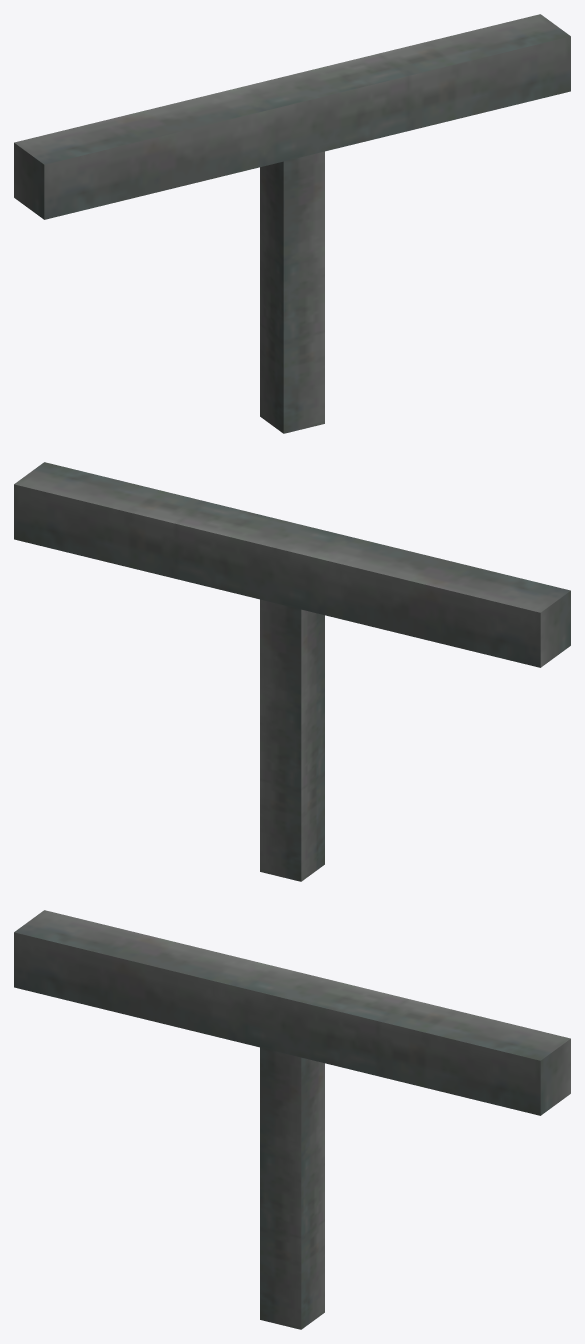
The model's file is fence_1.obj.
3 views of the same model, one above another, from view 1: azimuth 30°, elevation 25°; view 2: azimuth 150°, elevation 25°; view 3: azimuth 330°, elevation 25° (orthographic).
Parts seen in each view (by area): view 1: fence_1; view 2: fence_1; view 3: fence_1.
Part boxes in pixels (x1=…): fence_1: x1=14, y1=14, x2=570, y2=433; fence_1: x1=14, y1=462, x2=570, y2=881; fence_1: x1=14, y1=910, x2=570, y2=1329.
Bounding box in the file's own units: 1 × 0.6 × 0.1.
Materials: 1 (1 with a texture image).
